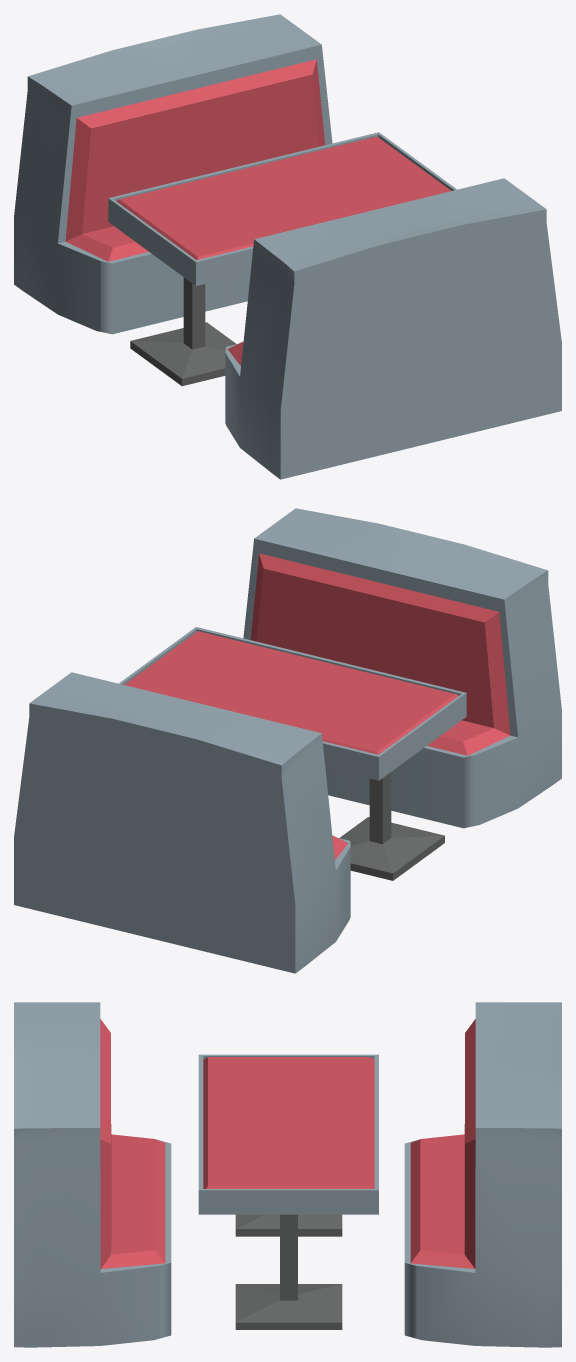
Rendered from Booth.fbx.
The picture shows the model from 3 angles, top to bottom: view 1: azimuth 30°, elevation 25°; view 2: azimuth 150°, elevation 25°; view 3: azimuth 270°, elevation 25°; orthographic projection. The views are drawn at different scales.
Visible parts, largest first — view 1: pCube6, pCube7, pCube3; view 2: pCube7, pCube6, pCube3; view 3: pCube6, pCube7, pCube3.
Part boxes in pixels (<box>): pCube6: <box>225,178,561,479</box>; pCube7: <box>14,14,332,334</box>; pCube3: <box>108,132,456,386</box>; pCube7: <box>14,672,350,973</box>; pCube6: <box>243,508,561,828</box>; pCube3: <box>119,627,466,880</box>; pCube6: <box>14,1002,171,1347</box>; pCube7: <box>404,1002,561,1347</box>; pCube3: <box>198,1054,378,1329</box>.
Size of the model in its own units: 2.81 by 2.01 by 4.61.
